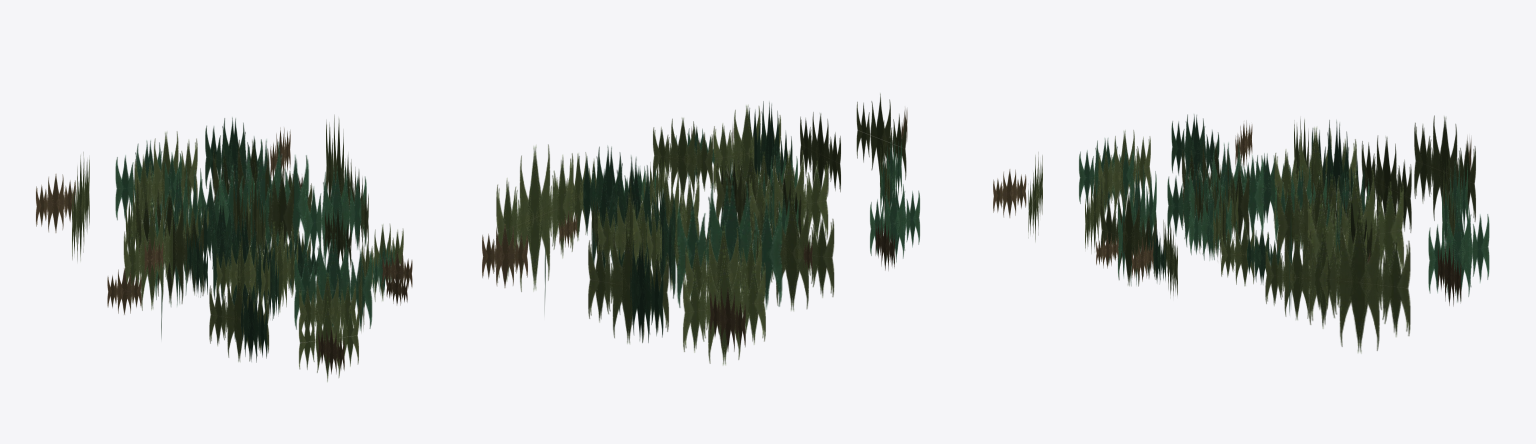
The model's file is small-grass01.glb.
The picture shows the model from 3 angles, left to right: view 1: azimuth 30°, elevation 25°; view 2: azimuth 150°, elevation 25°; view 3: azimuth 270°, elevation 25°; orthographic projection. The views are drawn at different scales.
Parts seen in each view (by area): view 1: SmallGrass01; view 2: SmallGrass01; view 3: SmallGrass01.
Boxes of the visible parts, x1,y1,x2,y2 form: SmallGrass01: [36, 115, 412, 381]; SmallGrass01: [482, 93, 919, 365]; SmallGrass01: [993, 114, 1489, 353].
Size of the model in its own units: 1.33 by 1.09 by 1.87.
1 material, 1 textured.
